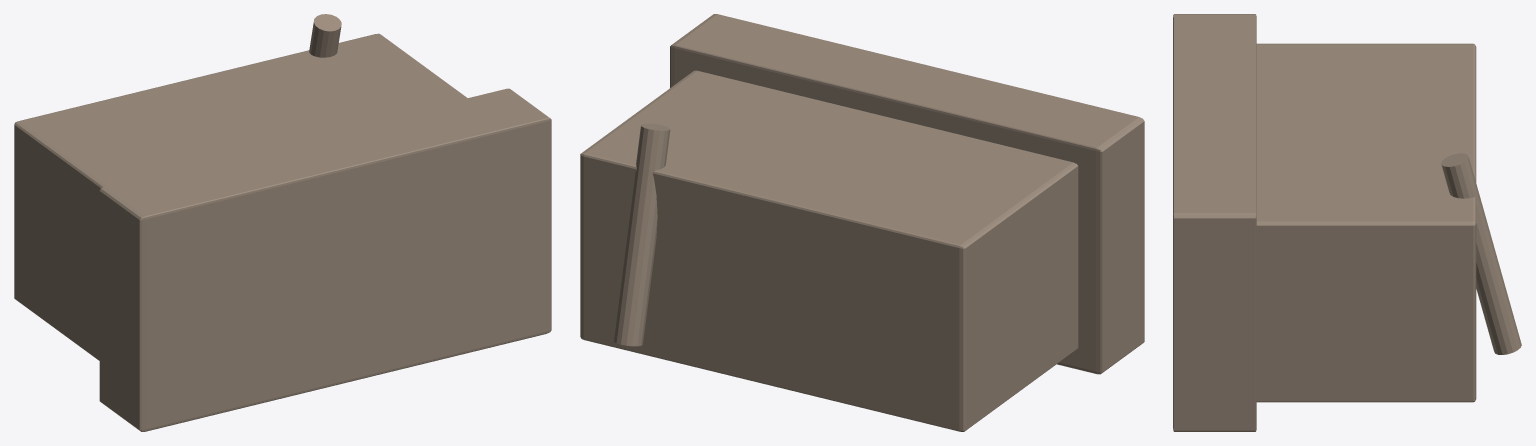
Rendered from dz_blender_industrial_generator.glb.
3 renders of one model, left to right at view 1: azimuth 30°, elevation 25°; view 2: azimuth 150°, elevation 25°; view 3: azimuth 270°, elevation 25°, orthographic. The views are drawn at different scales.
Visible parts, largest first — view 1: generator skid base, large generator body, rear exhaust pipe; view 2: large generator body, generator skid base, rear exhaust pipe; view 3: large generator body, generator skid base, rear exhaust pipe.
Part boxes in pixels (x1,y1,x2,y2): generator skid base: (99,88,551,431); large generator body: (14,33,467,360); rear exhaust pipe: (309,14,341,57); large generator body: (580,70,1078,431); generator skid base: (670,14,1144,374); rear exhaust pipe: (613,123,670,346); large generator body: (1256,43,1476,402); generator skid base: (1173,14,1256,431); rear exhaust pipe: (1441,153,1521,354).
Bounding box in the file's own units: 1.84 × 0.9909 × 1.33.
